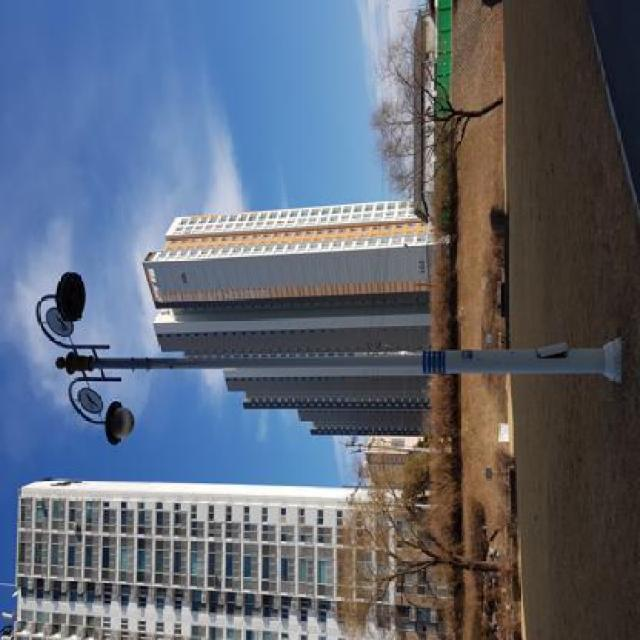pole: (102, 334, 635, 392)
